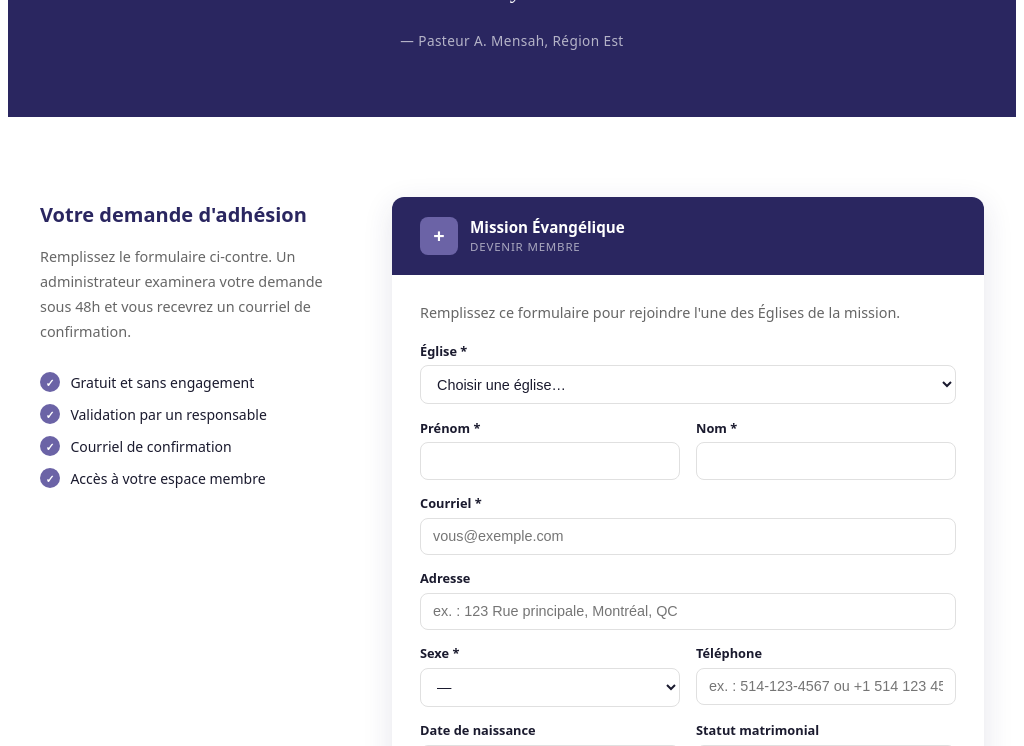
MembershipPage — envoi et confirmation › confirme une demande en attente d'approbation
The width and height of the screenshot is (1024, 746).
(page scrolled)
Select "Église centrale — Centre" in the 1st dropdown at (688, 385), box top-left (420, 365), bottom-right (956, 404)
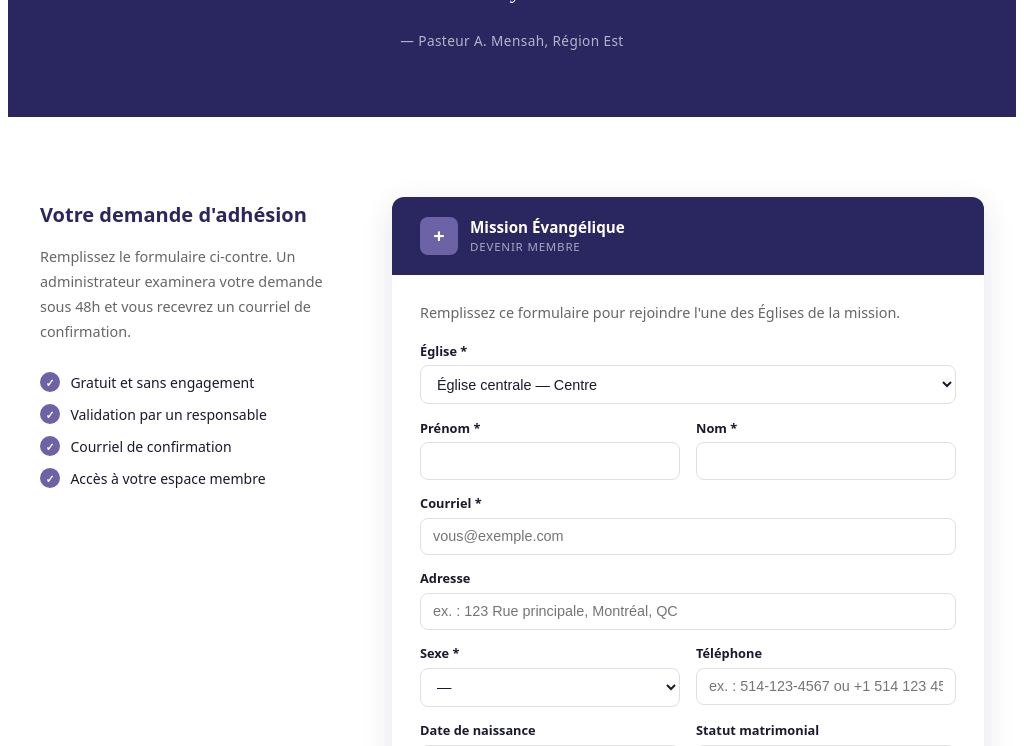
Type "Marie" into the field below "Prénom *" at (550, 461), box top-left (420, 442), bottom-right (680, 480)
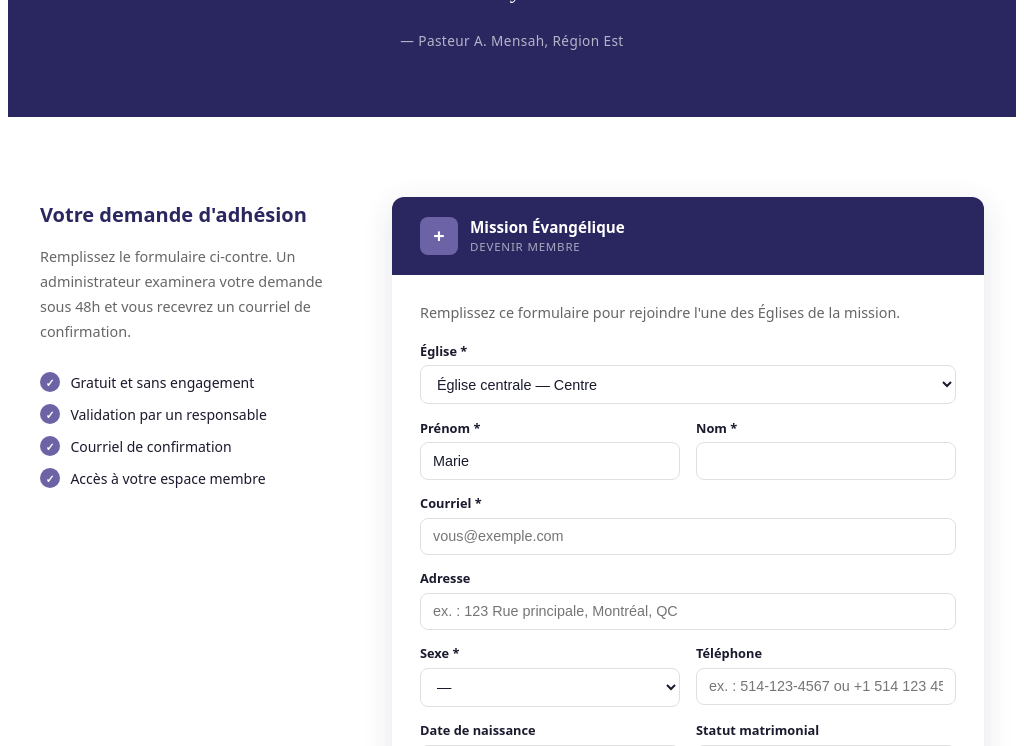
Type "Dupont" into the 2nd field at (826, 461), box top-left (696, 442), bottom-right (956, 480)
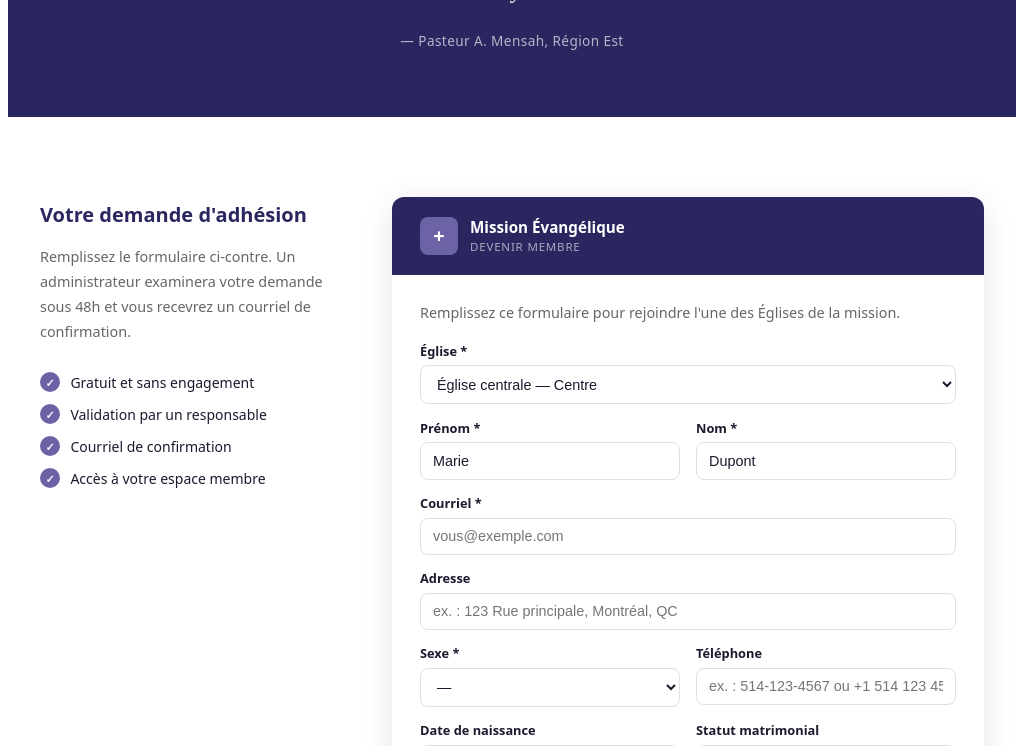
Type "marie@exemple.com" into the field with placeholder "vous@exemple.com" at (688, 536), box top-left (420, 518), bottom-right (956, 555)
(page scrolled)
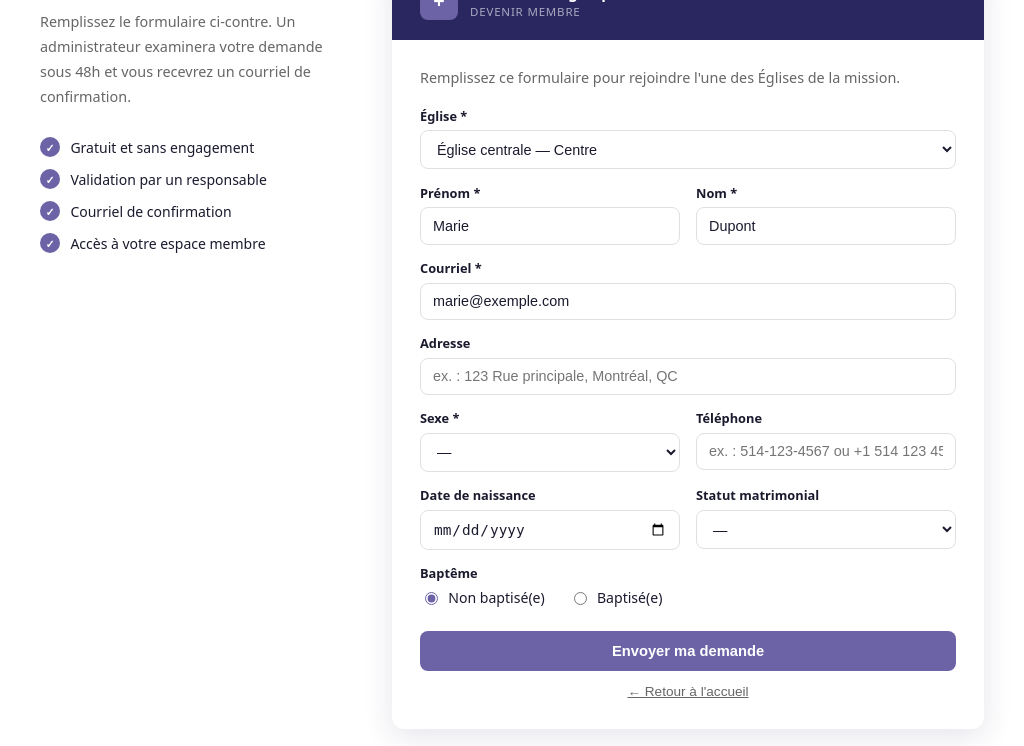
Submit the form, box top-left (392, 40), bottom-right (984, 729)
(page scrolled)
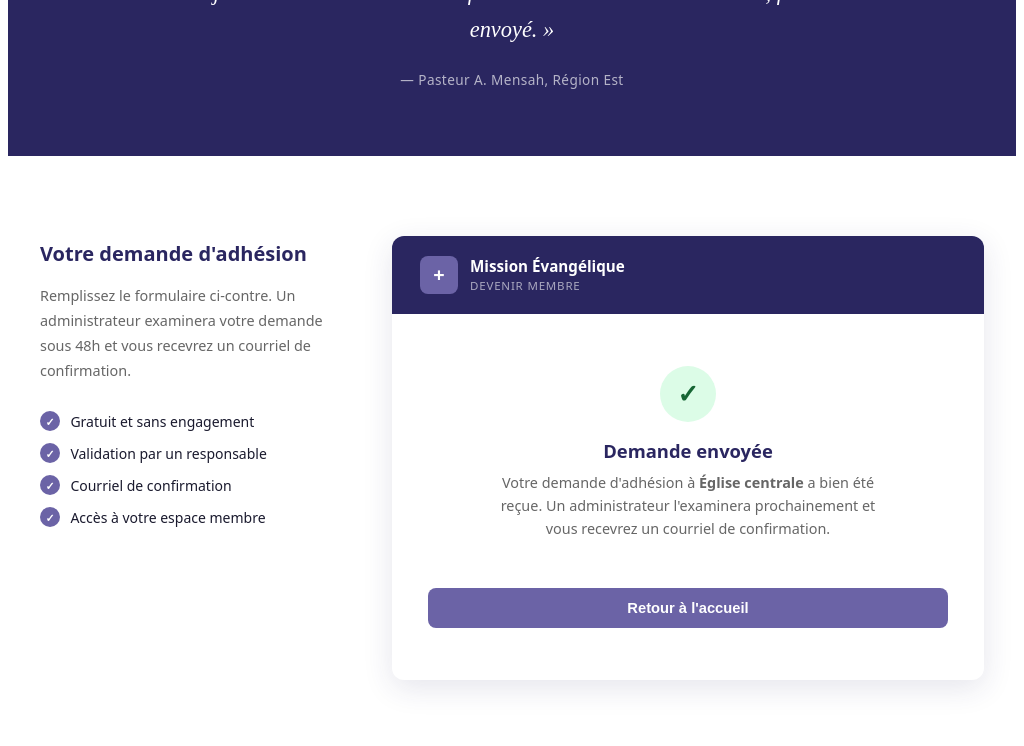
Now the heading "Demande envoyée" is shown, box top-left (603, 438), bottom-right (773, 463)
Now the text "Église centrale" is shown, box top-left (699, 473), bottom-right (804, 492)
